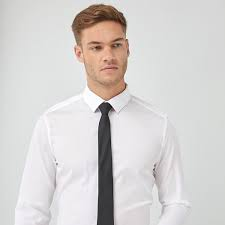F_shirt: (13, 85, 193, 225)
F_tie: (96, 100, 117, 225)
